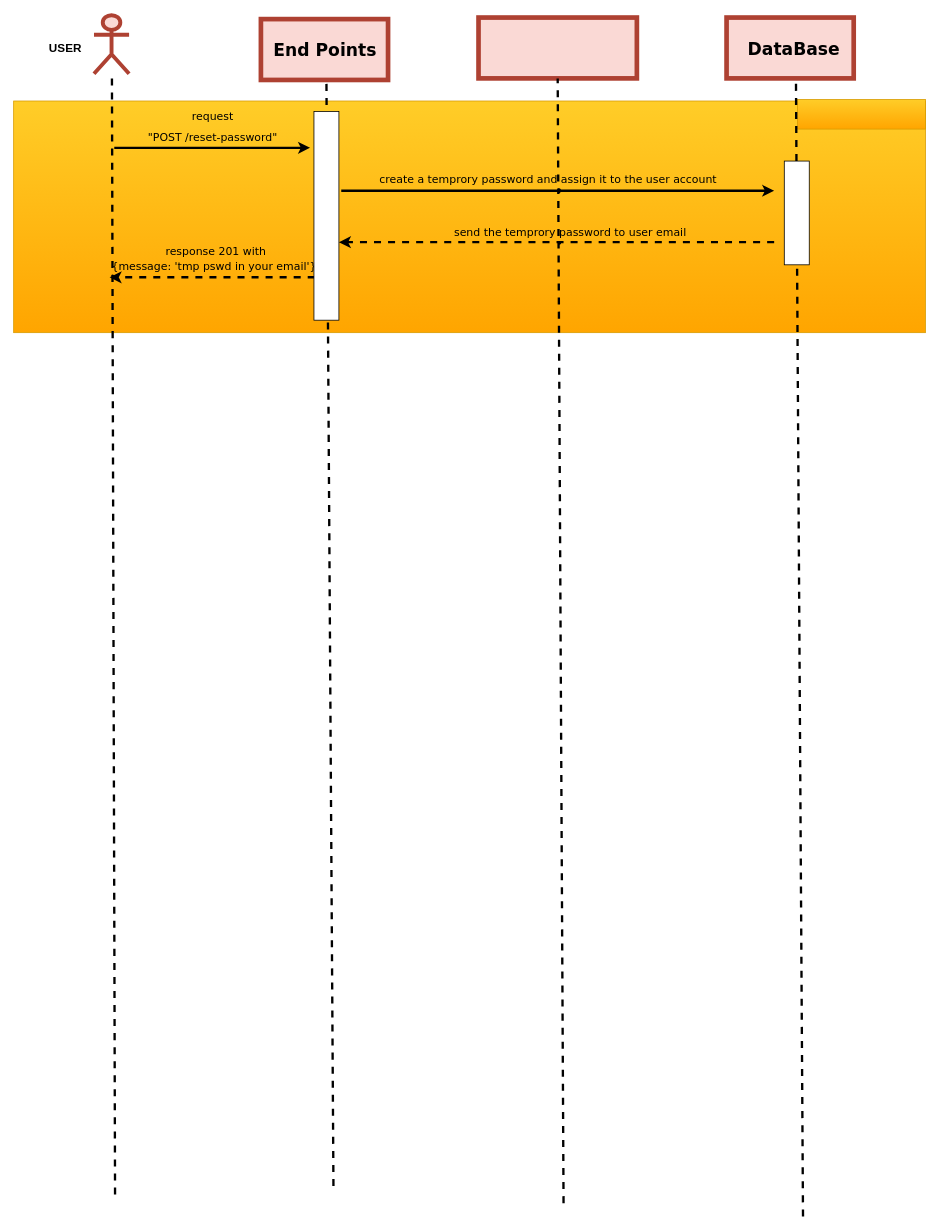
This 939x1232 diagram has some shape labels left out. Here are the shapes that lost their labels. From the top down, the box of each, then its label:
(476, 15, 639, 80): Authentication
(797, 99, 925, 129): reset-password
